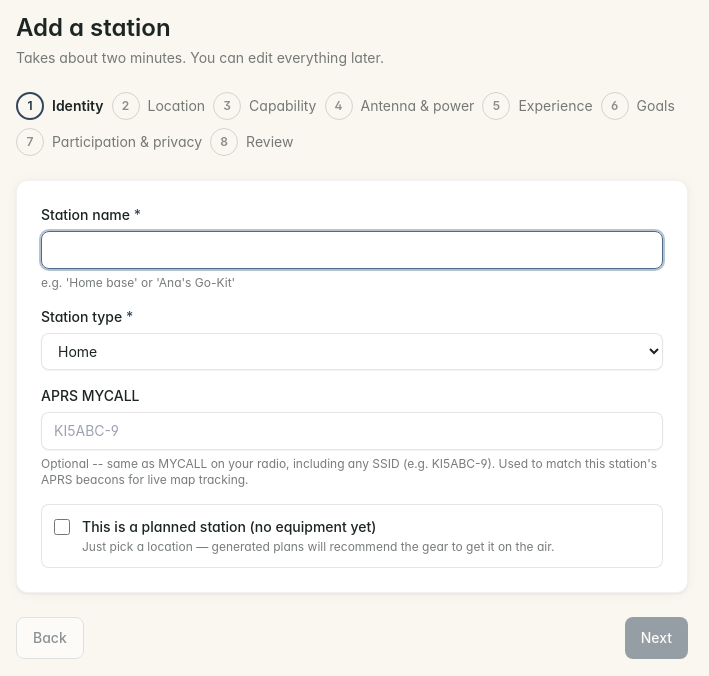
Test case: StationWizardPage › advances through steps to the location step, defaulting to the broad-area search
Type "Home base" into the field labelled "Station name *" at point(352, 250), box [41,231,663,269]
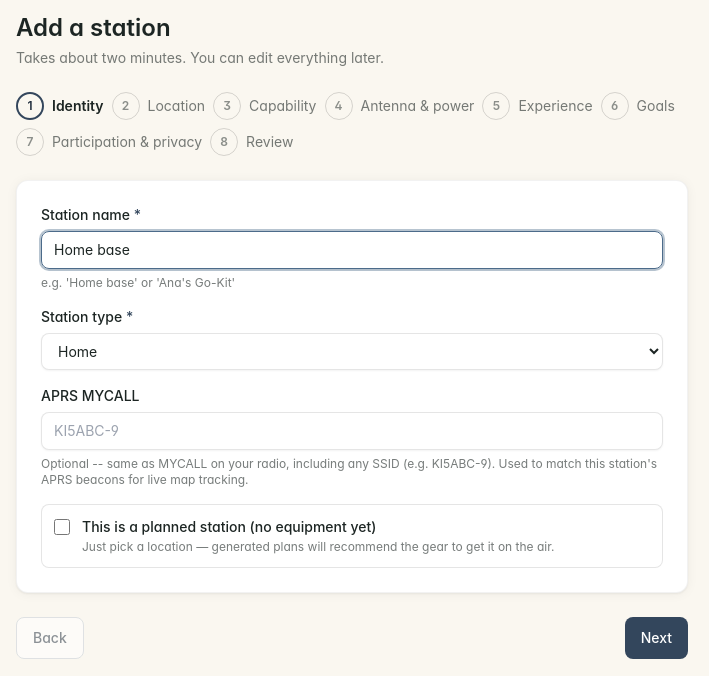
Click the button "Next" at point(656, 638), box [625,617,688,659]
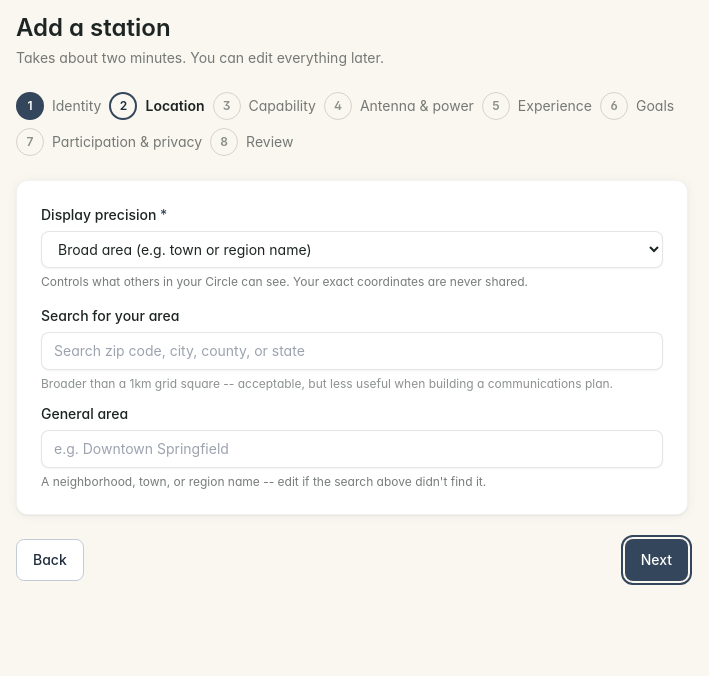
Expected: the field labelled "General area" is shown, [41,430,663,468]
Expected: the field with placeholder "Search zip code, city, county, or state" is shown, [41,332,663,370]
